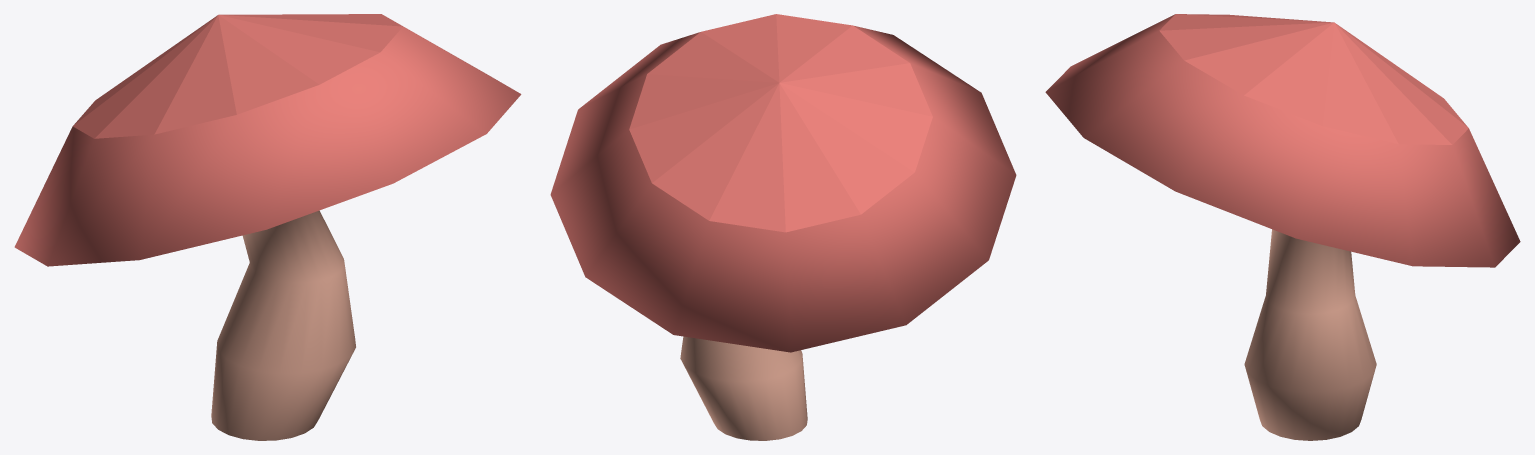
The model's file is A_Mushroom.fbx.
3 views of the same model, side by side, from view 1: azimuth 30°, elevation 25°; view 2: azimuth 150°, elevation 25°; view 3: azimuth 270°, elevation 25° (orthographic). The views are drawn at different scales.
Parts seen in each view (by area): view 1: polySurface1; view 2: polySurface1; view 3: polySurface1.
Part boxes in pixels (box(x1,y1,x2,y2)): polySurface1: box(14, 14, 521, 440); polySurface1: box(550, 14, 1016, 440); polySurface1: box(1045, 14, 1520, 440).
Size of the model in its own units: 9.45 by 8.31 by 9.03.
